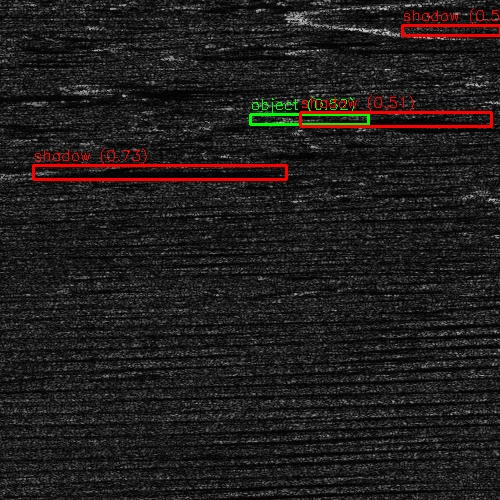rock: (314, 0, 500, 34), (178, 110, 427, 127), (55, 84, 138, 95), (206, 99, 269, 112), (277, 44, 360, 53), (151, 53, 182, 58), (16, 171, 47, 176)
shadow: (303, 110, 470, 127), (97, 84, 250, 95), (238, 99, 360, 112), (0, 92, 173, 101), (32, 171, 295, 176), (319, 44, 446, 53), (167, 53, 285, 58)
